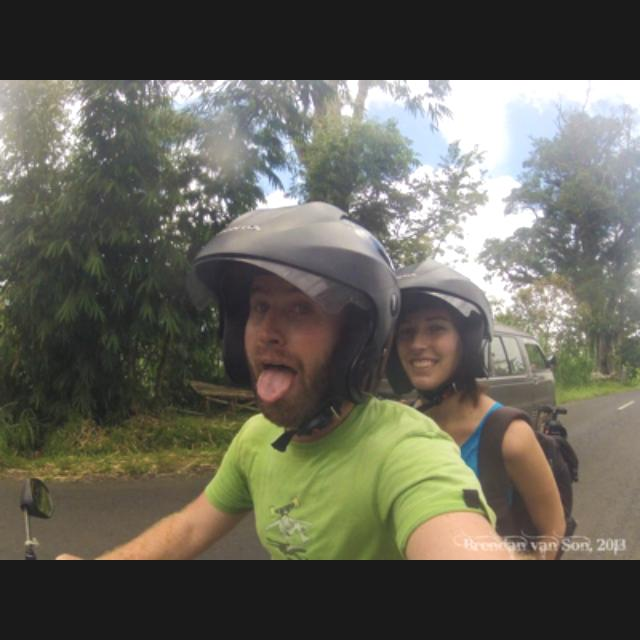With Helmet: (186, 201, 407, 435)
